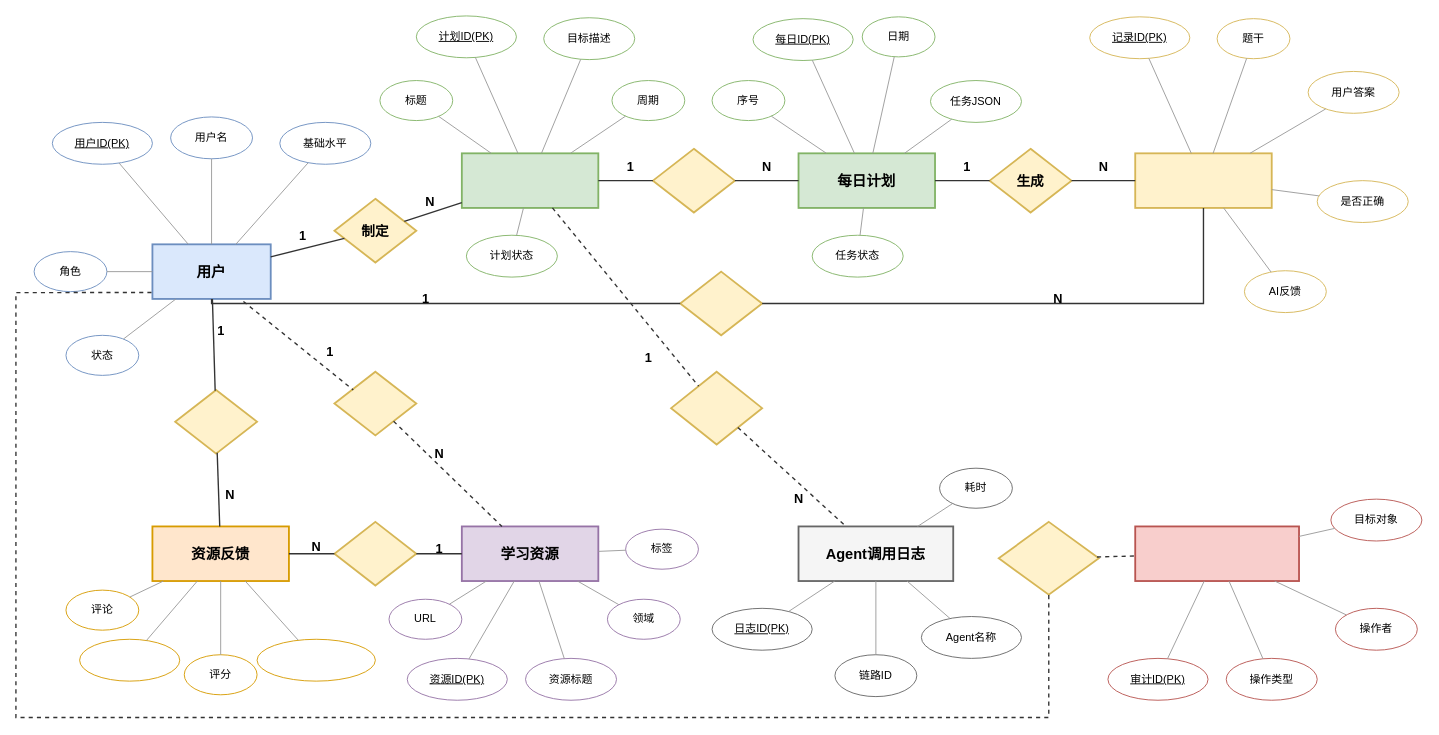
This 1439x735 diagram has some shape labels left out. Here are the shapes that lost their labels. From the top down, the centre of each, then its label:
the point at 529,180: 学习计划
the point at 693,180: 包含
the point at 1203,180: 练习记录
the point at 721,303: 作答
the point at 216,421: 提交
the point at 375,403: 上传
the point at 716,407: 记录调用
the point at 375,553: 针对
the point at 1048,558: 记录管理操作
the point at 1216,553: 管理员审计日志
the point at 129,659: 反馈ID(PK)
the point at 315,659: 是否举报无效
